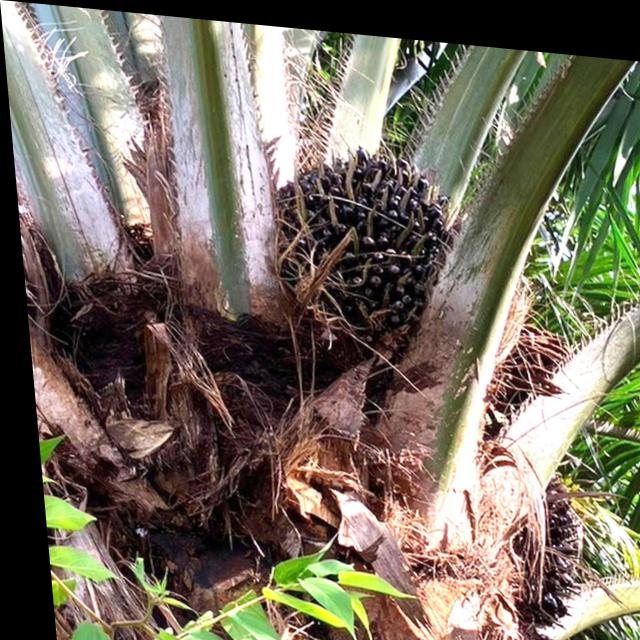unripe: (282, 137, 488, 372)
